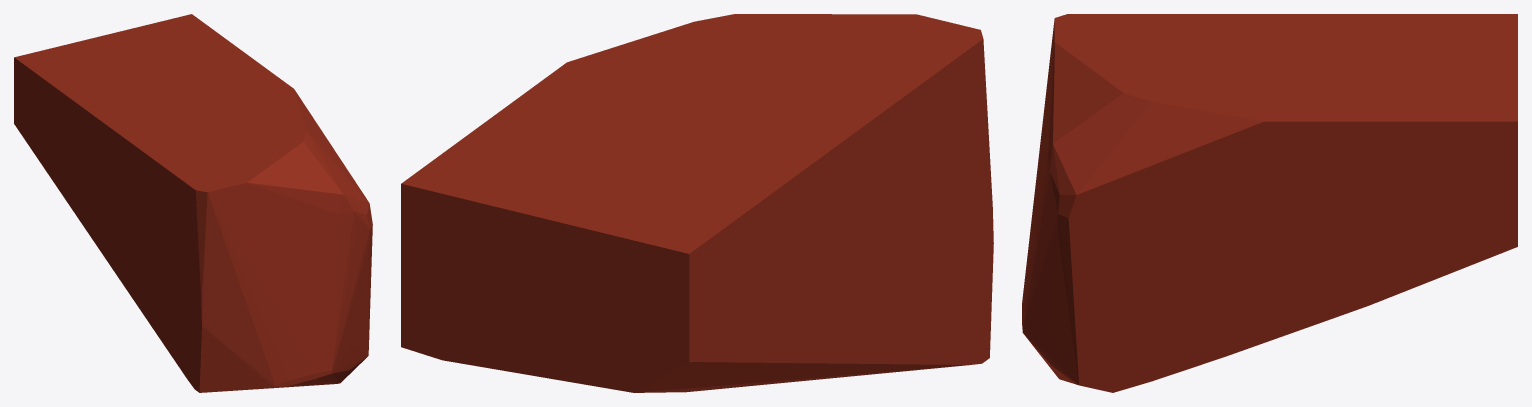
3 renders of one model, left to right at view 1: azimuth 30°, elevation 25°; view 2: azimuth 150°, elevation 25°; view 3: azimuth 270°, elevation 25°, orthographic. The views are drawn at different scales.
Bounding box in the file's own units: 0.0222 × 0.0269 × 0.0432.
